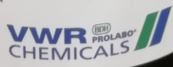VWR: (6, 5, 172, 60)
